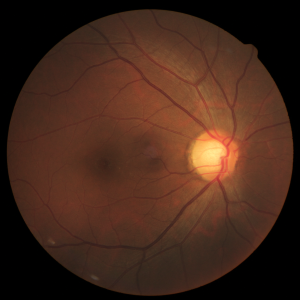glaucoma: (82, 106, 269, 220)
